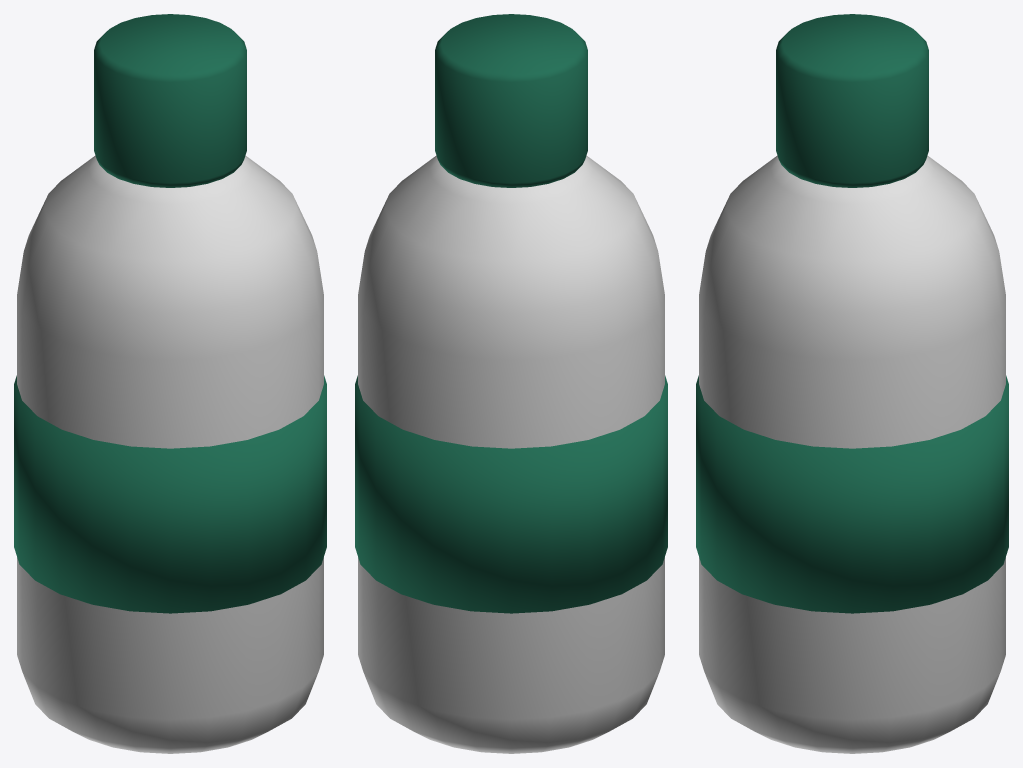
File: sauce-bottle.glb
The picture shows the model from 3 angles, left to right: view 1: azimuth 30°, elevation 25°; view 2: azimuth 150°, elevation 25°; view 3: azimuth 270°, elevation 25°; orthographic projection.
Parts seen in each view (by area): view 1: body, band, cap; view 2: body, band, cap; view 3: body, band, cap.
Boxes of the visible parts, box(x1,y1,x2,y2) form: body: box(17, 155, 323, 753); band: box(14, 375, 326, 613); cap: box(94, 14, 246, 187); body: box(358, 155, 664, 753); band: box(355, 375, 667, 613); cap: box(435, 14, 587, 187); body: box(699, 155, 1005, 753); band: box(696, 375, 1008, 613); cap: box(776, 14, 928, 187).
Bounding box in the file's own units: 0.45 × 1.05 × 0.45.
